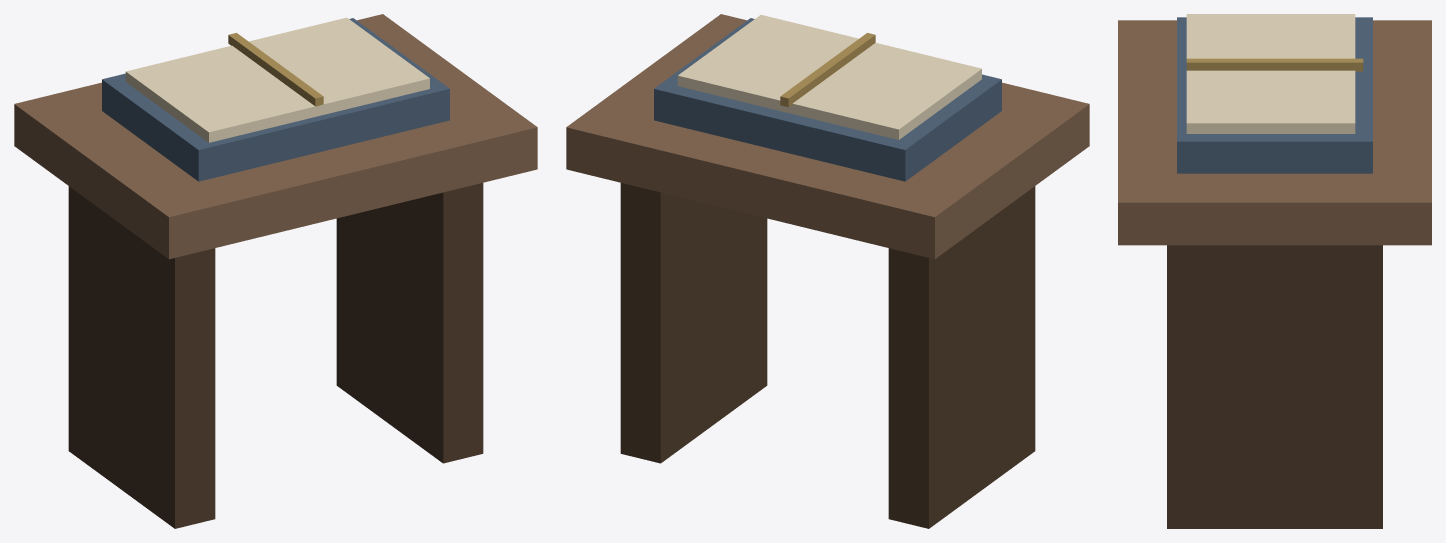
File: room_ledger.glb
3 views of the same model, side by side, from view 1: azimuth 30°, elevation 25°; view 2: azimuth 150°, elevation 25°; view 3: azimuth 270°, elevation 25° (orthographic).
Parts seen in each view (by area): view 1: desk, support, support.001, open-pages, book-cover, spine; view 2: desk, support, support.001, open-pages, book-cover, spine; view 3: support.001, desk, open-pages, book-cover, spine.
Boxes of the visible parts, x1,y1,x2,y2 form: desk: (14,14,537,259); support: (68,186,215,528); support.001: (336,183,483,463); open-pages: (125,17,429,142); book-cover: (102,18,449,181); spine: (228,33,323,106); desk: (566,14,1089,259); support: (888,186,1035,528); support.001: (620,183,767,463); open-pages: (677,14,981,139); book-cover: (654,18,1001,181); spine: (780,33,875,107); support.001: (1167,245,1382,528); desk: (1118,20,1431,245); open-pages: (1186,14,1355,133); book-cover: (1177,17,1372,173); spine: (1186,58,1363,71).
Size of the model in its own units: 1.1 by 1.1 by 0.8.
